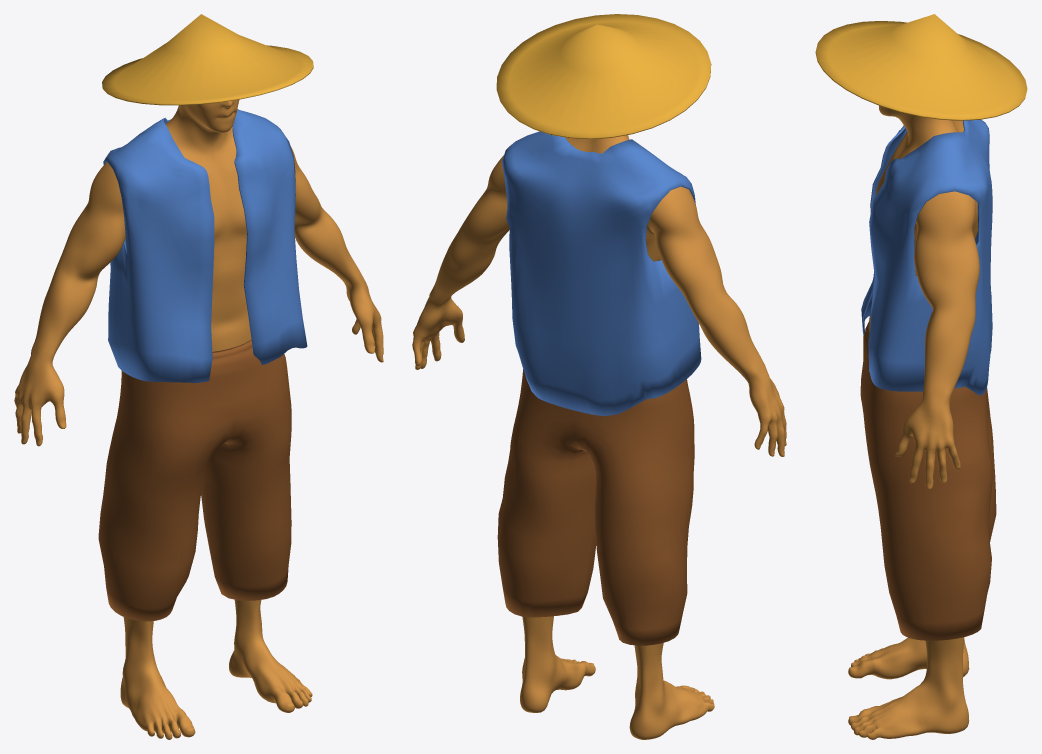
Rendered from PlayerCharacter.fbx.
3 renders of one model, left to right at view 1: azimuth 30°, elevation 25°; view 2: azimuth 150°, elevation 25°; view 3: azimuth 270°, elevation 25°, orthographic.
Visible parts, largest first — view 1: Plane.003, Plane.002, Plane.001, Plane.004; view 2: Plane.002, Plane.003, Plane.001, Plane.004; view 3: Plane.003, Plane.001, Plane.002, Plane.004.
Part boxes in pixels (<box>): Plane.003: <box>98,340,291,621</box>; Plane.002: <box>103,109,307,382</box>; Plane.001: <box>14,99,383,739</box>; Plane.004: <box>102,14,313,105</box>; Plane.002: <box>502,131,701,416</box>; Plane.003: <box>497,369,694,645</box>; Plane.001: <box>412,135,786,739</box>; Plane.004: <box>496,14,711,139</box>; Plane.003: <box>860,315,996,640</box>; Plane.001: <box>848,105,979,739</box>; Plane.002: <box>861,119,992,395</box>; Plane.004: <box>815,14,1027,120</box>.
Size of the model in its own units: 1168 by 2117 by 590.
